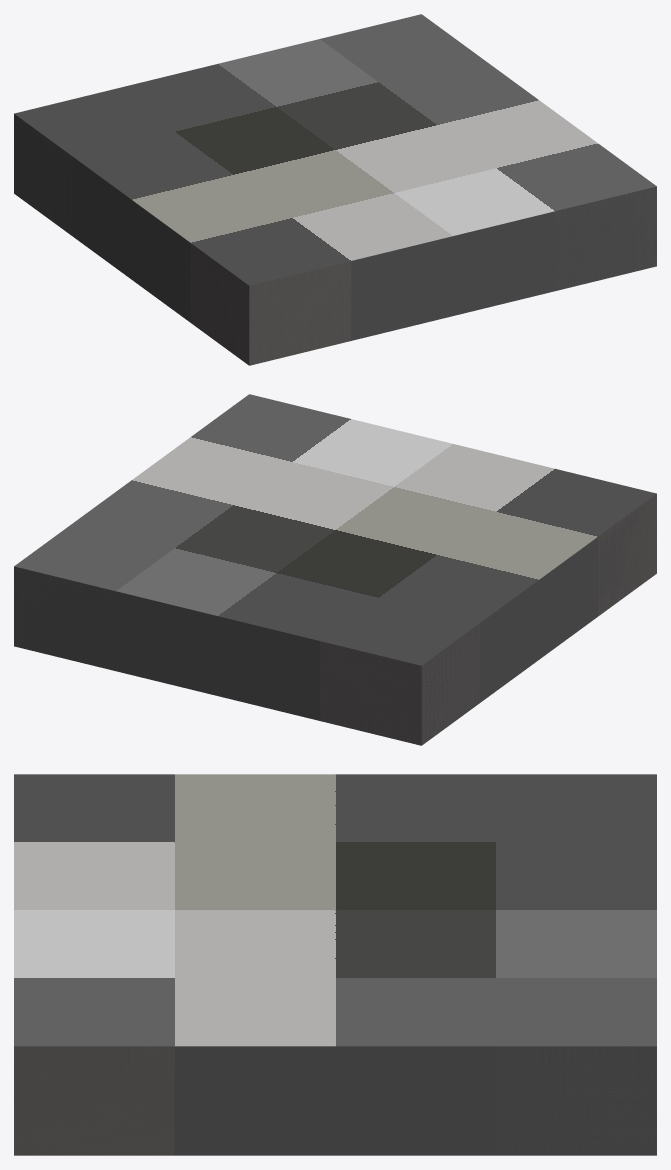
The model's file is controller_output_socket.obj.
3 renders of one model, top to bottom at view 1: azimuth 30°, elevation 25°; view 2: azimuth 150°, elevation 25°; view 3: azimuth 270°, elevation 25°, orthographic. The views are drawn at different scales.
Parts seen in each view (by area): view 1: part_0_dcp_preview_block_controller_output_socket; view 2: part_0_dcp_preview_block_controller_output_socket; view 3: part_0_dcp_preview_block_controller_output_socket.
Part boxes in pixels (x1,y1,x2,y2): part_0_dcp_preview_block_controller_output_socket: (14,14,656,365); part_0_dcp_preview_block_controller_output_socket: (14,394,656,745); part_0_dcp_preview_block_controller_output_socket: (14,774,656,1155).
Bounding box in the file's own units: 0.25 × 0.0469 × 0.25.
